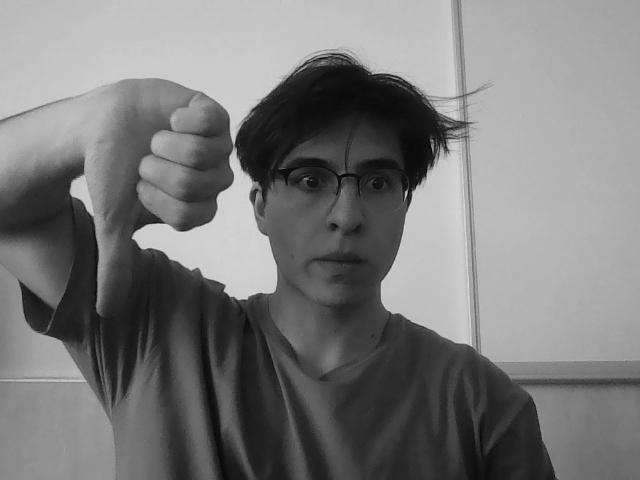bad: (42, 56, 260, 340)
